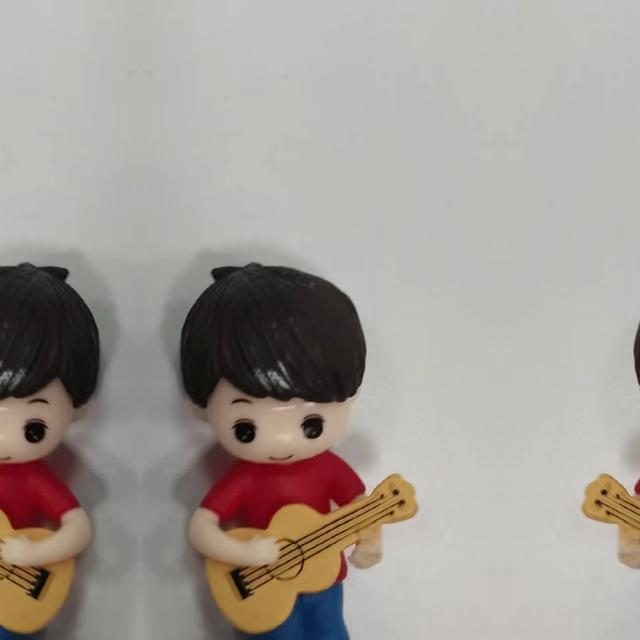man cloth: (201, 456, 373, 586), (0, 456, 79, 586), (627, 456, 640, 586)
man head: (174, 256, 370, 466), (0, 256, 105, 466), (630, 256, 640, 466)
trousers: (219, 590, 363, 636), (0, 590, 61, 635), (637, 590, 640, 635)
